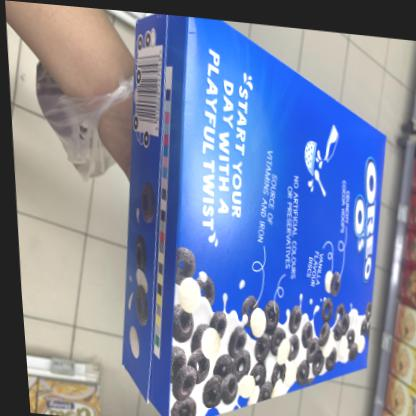cereal box: (91, 6, 406, 415)
